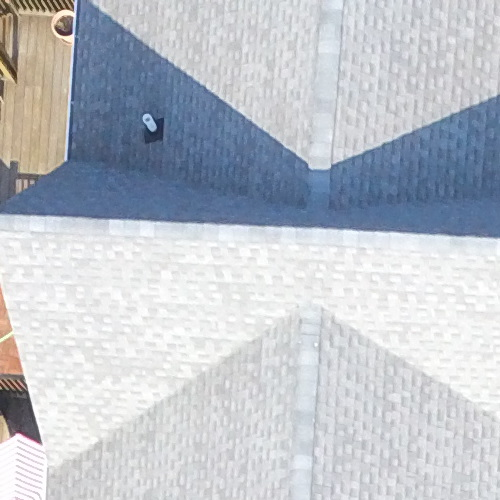flower pot: (52, 5, 77, 50)
